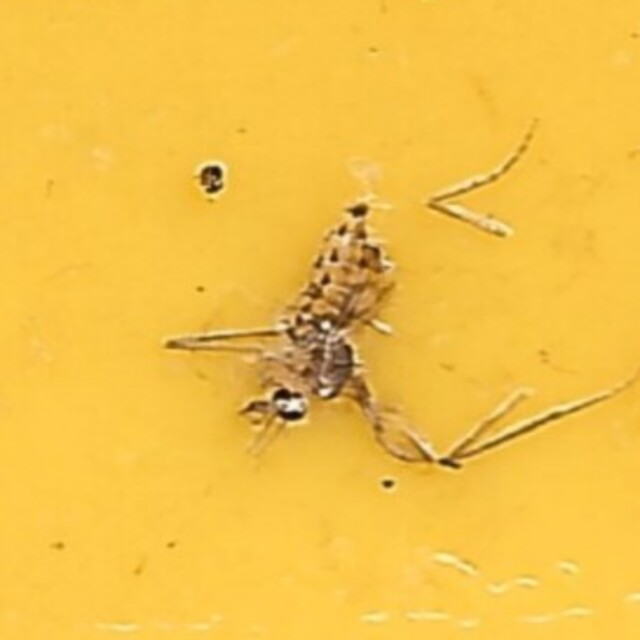Nematocera: (234, 192, 406, 448)
